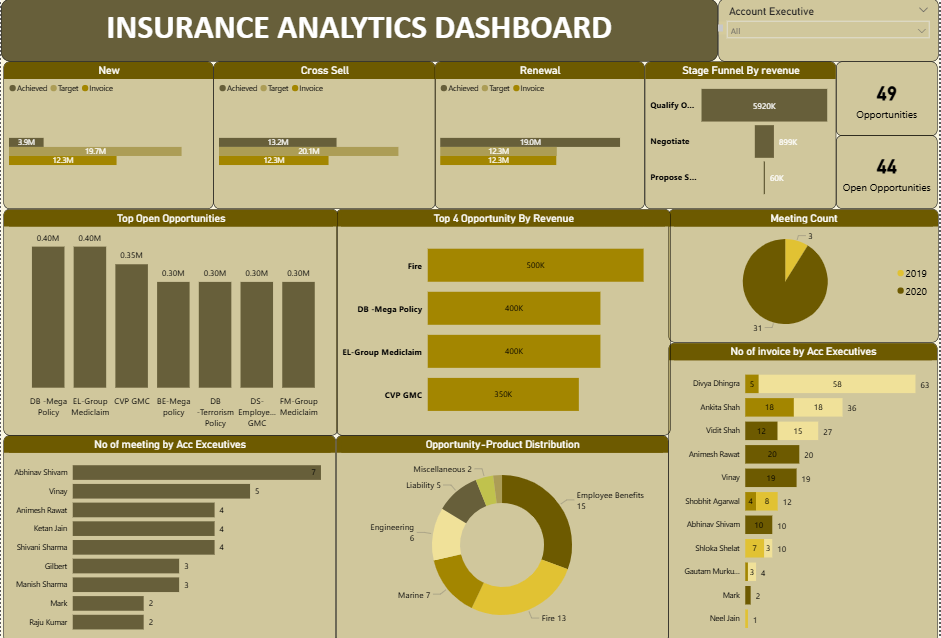

Layout of this report page (visuals, bound fields, positions):
{"tool":"powerbi","page":{"name":"Insurance Dashboard","canvas":[1500,1030],"ordinal":0},"visuals":[{"type":"pieChart","title":"Meeting Count","fields":{"Category":["meeting_list_202001231041.meeting_date.Variation.Date Hierarchy.Year"],"Y":["CountNonNull(meeting_list_202001231041.meeting_date)"]},"box":[1067.1,335.9,432.1,213.4],"z":0},{"type":"card","fields":{"Values":["CountNonNull(gcrm_opportunity_202001231041.opportunity_name)"]},"box":[1336.5,99.7,162.7,119],"z":1000},{"type":"card","fields":{"Values":["CountNonNull(gcrm_opportunity_202001231041.opportunity_name)"]},"box":[1336.5,218.7,162.7,117.2],"z":2000},{"type":"barChart","title":"No of invoice by Acc Executives","fields":{"Category":["invoice_202001231041.Account Executive"],"Y":["CountNonNull(invoice_202001231041.Amount)"],"Series":["invoice_202001231041.income_class"]},"box":[1068.8,549.3,430.3,481.1],"z":3000},{"type":"donutChart","title":"Opportunity-Product Distribution","fields":{"Category":["gcrm_opportunity_202001231041.product_group"],"Y":["CountNonNull(gcrm_opportunity_202001231041.product_group)"]},"box":[535.3,698,531.8,332.4],"z":4000},{"type":"clusteredBarChart","title":"No of meeting by Acc Exceutives","fields":{"Category":["meeting_list_202001231041.Account Executive"],"Y":["CountNonNull(meeting_list_202001231041.meeting_date)"]},"box":[3.5,698,531.8,332.4],"z":5000},{"type":"funnel","title":"Stage Funnel By revenue","fields":{"Category":["gcrm_opportunity_202001231041.stage"],"Y":["Sum(gcrm_opportunity_202001231041.revenue_amount)"]},"box":[1030.4,99.7,306.1,236.2],"z":6000},{"type":"clusteredBarChart","title":"Top 4 Opportunity By Revenue","fields":{"Category":["gcrm_opportunity_202001231041.opportunity_name"],"Y":["Sum(gcrm_opportunity_202001231041.revenue_amount)"]},"box":[535.3,335.9,535.3,362.1],"z":7000},{"type":"clusteredColumnChart","title":"Top Open Opportunities","fields":{"Category":["gcrm_opportunity_202001231041.opportunity_name"],"Y":["Sum(gcrm_opportunity_202001231041.revenue_amount)"]},"box":[3.5,335.9,535.3,362.1],"z":8000},{"type":"clusteredBarChart","title":"New","fields":{"Y":["brokerage_202001231040.Achieved","Sum(Branch (NN+EN+EE Indi bdgt -20012020 ).New Budget)","Sum(invoice_202001231041.Amount)"]},"box":[3.5,99.7,335.9,236.2],"z":9000},{"type":"clusteredBarChart","title":"Cross Sell","fields":{"Y":["brokerage_202001231040.Achieved","Sum(Branch (NN+EN+EE Indi bdgt -20012020 ).Cross sell bugdet)","Sum(invoice_202001231041.Amount)"]},"box":[339.4,99.7,355.1,236.2],"z":10000},{"type":"clusteredBarChart","title":"Renewal","fields":{"Y":["brokerage_202001231040.Achieved","Sum(Branch (NN+EN+EE Indi bdgt -20012020 ).Renewal Budget)","Sum(invoice_202001231041.Amount)"]},"box":[694.5,99.7,335.9,236.2],"z":11000},{"type":"slicer","fields":{"Values":["invoice_202001231041.Account Executive"]},"box":[1147.6,0,351.6,99.7],"z":12000},{"type":"textbox","box":[3.5,36.7,1156.3,21],"z":13000},{"type":"textbox","box":[0,0,1147.6,99.7],"z":14000}]}

Visuals, with their boxes in screenshot pixels (x1, y1, x2, y2), scaled from the page's 1500x1030 canvas onto the 941x638 screenshot:
"Meeting Count" pieChart: l=669, t=208, r=940, b=340
card - CountNonNull(gcrm_opportunity_202001231041.opportunity_name): l=838, t=62, r=940, b=135
card - CountNonNull(gcrm_opportunity_202001231041.opportunity_name): l=838, t=135, r=940, b=208
"No of invoice by Acc Executives" barChart: l=670, t=340, r=940, b=637
"Opportunity-Product Distribution" donutChart: l=336, t=432, r=669, b=637
"No of meeting by Acc Exceutives" clusteredBarChart: l=2, t=432, r=336, b=637
"Stage Funnel By revenue" funnel: l=646, t=62, r=838, b=208
"Top 4 Opportunity By Revenue" clusteredBarChart: l=336, t=208, r=672, b=432
"Top Open Opportunities" clusteredColumnChart: l=2, t=208, r=338, b=432
"New" clusteredBarChart: l=2, t=62, r=213, b=208
"Cross Sell" clusteredBarChart: l=213, t=62, r=436, b=208
"Renewal" clusteredBarChart: l=436, t=62, r=646, b=208
slicer - invoice_202001231041.Account Executive: l=720, t=0, r=940, b=62
textbox: l=2, t=23, r=728, b=36
textbox: l=0, t=0, r=720, b=62
